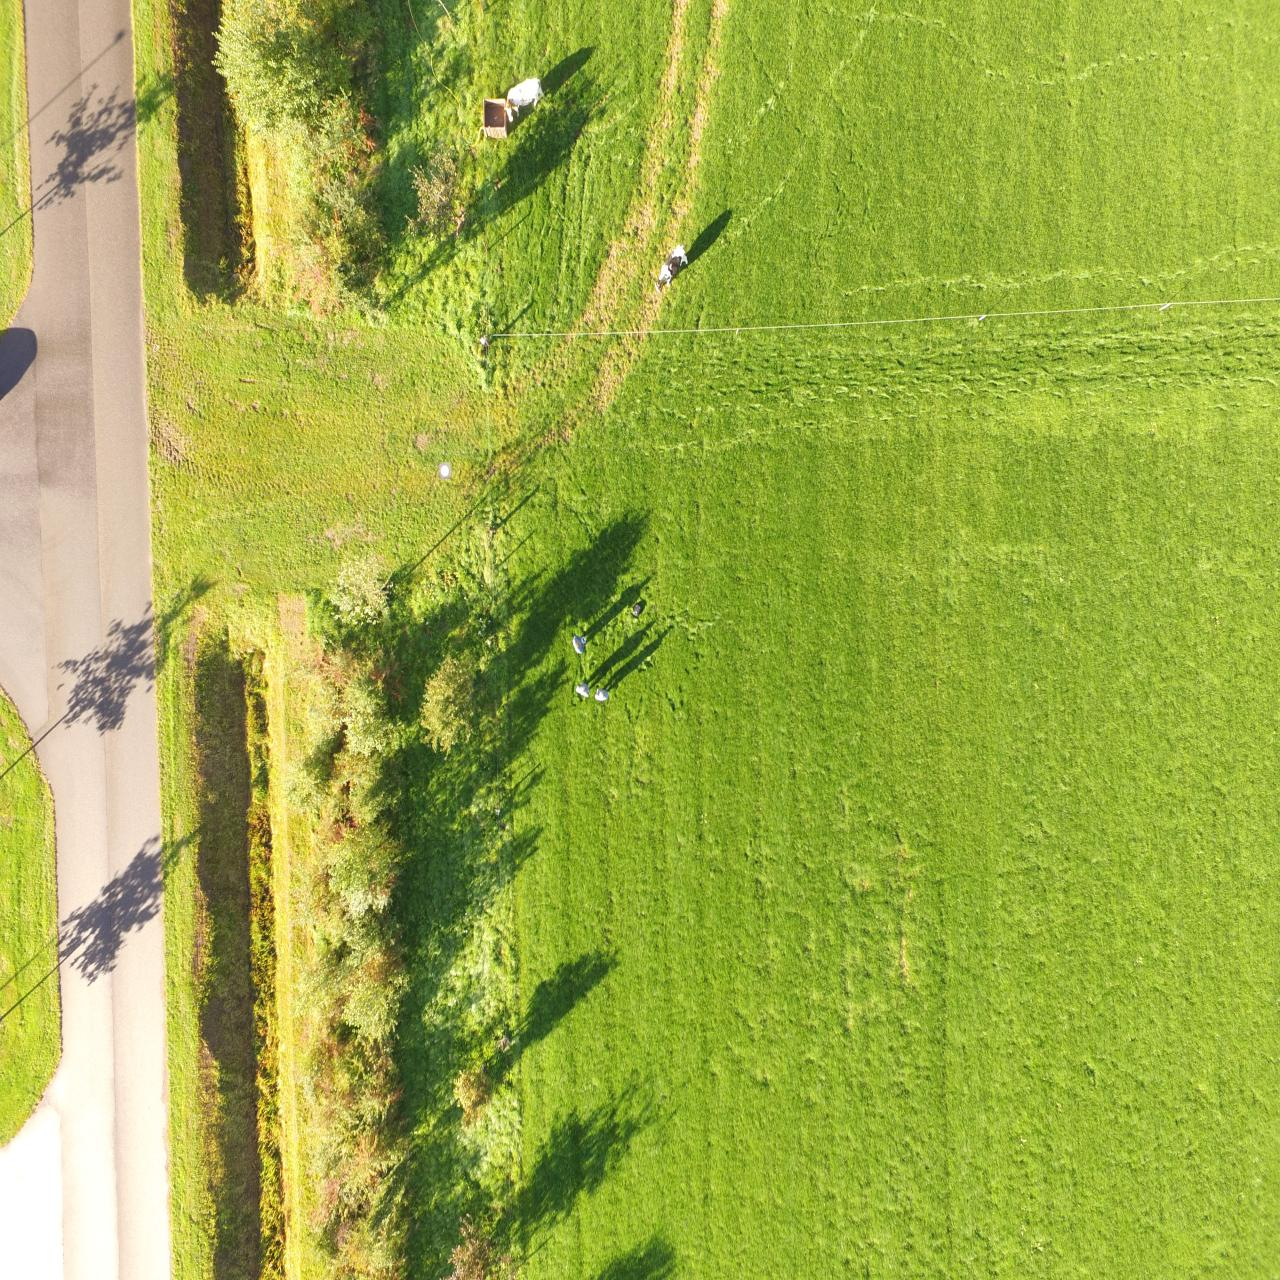cow: (653, 240, 689, 292), (503, 76, 543, 122)
